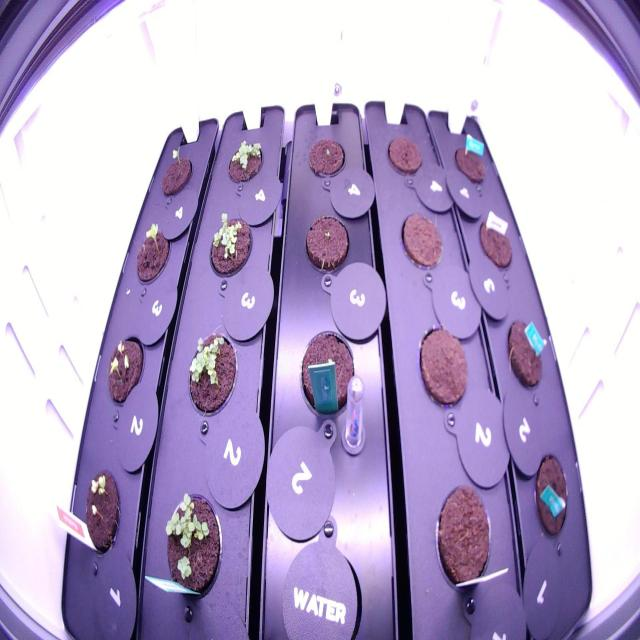germination: (153, 485, 227, 611), (177, 326, 241, 421), (75, 461, 126, 561), (203, 205, 258, 287), (102, 328, 148, 410), (130, 218, 174, 288), (154, 136, 196, 203), (219, 132, 266, 191)
pod: (290, 318, 363, 431), (427, 479, 494, 598), (411, 317, 473, 416), (502, 309, 549, 399), (530, 448, 574, 544), (298, 211, 356, 281), (394, 204, 446, 279), (473, 210, 516, 274), (379, 128, 427, 184), (449, 134, 494, 189), (304, 132, 350, 183)
